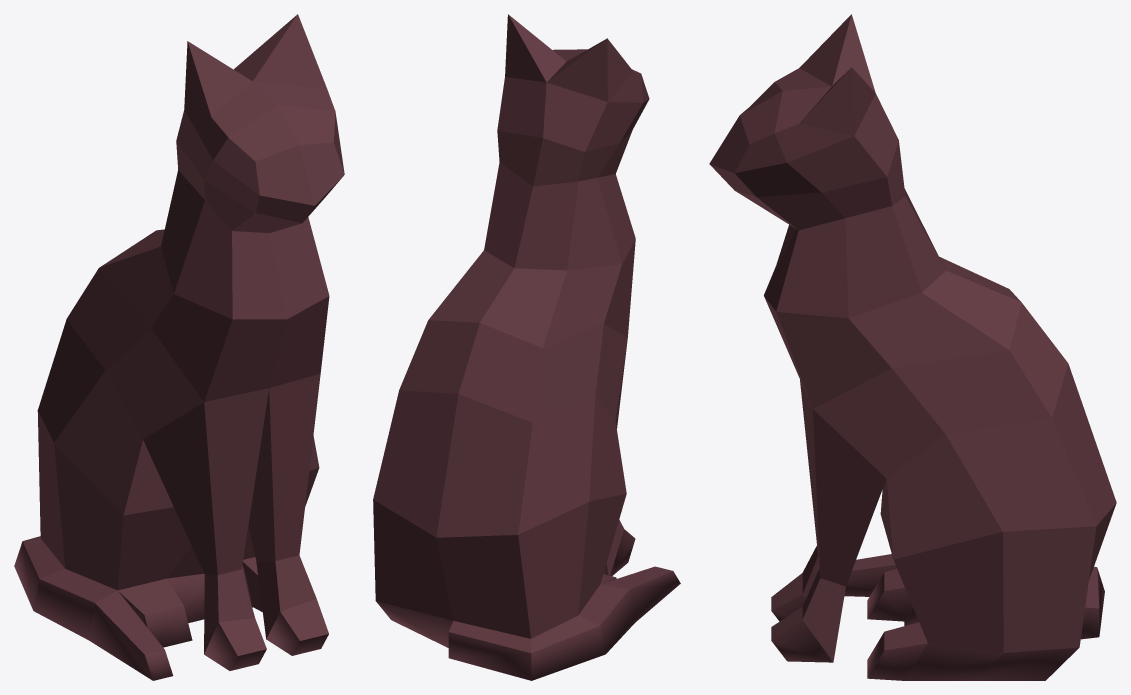
Rendered from cat.fbx.
The picture shows the model from 3 angles, left to right: view 1: azimuth 30°, elevation 25°; view 2: azimuth 150°, elevation 25°; view 3: azimuth 270°, elevation 25°; orthographic projection. The views are drawn at different scales.
Visible parts, largest first — view 1: egypt-statue-cat; view 2: egypt-statue-cat; view 3: egypt-statue-cat.
Part boxes in pixels (bbox=[...]): egypt-statue-cat: bbox=[14, 14, 344, 680]; egypt-statue-cat: bbox=[373, 14, 680, 680]; egypt-statue-cat: bbox=[709, 14, 1116, 680].
Bounding box in the file's own units: 173 × 413 × 255.
